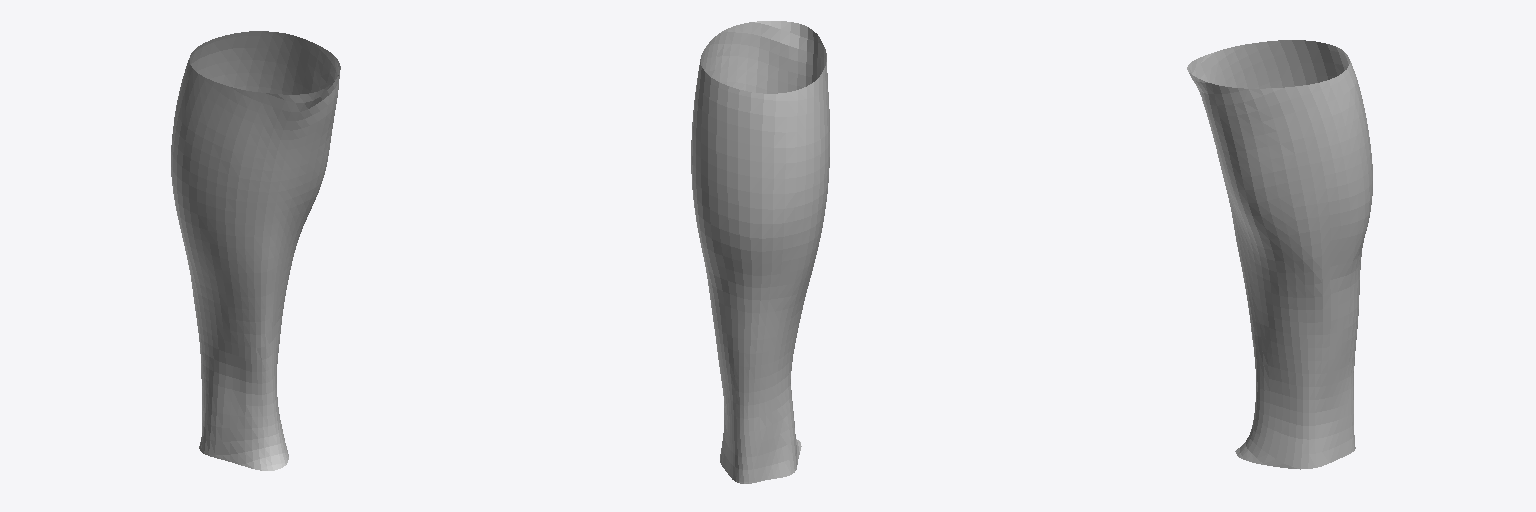
The model's file is gambaD.obj.
3 views of the same model, side by side, from view 1: azimuth 30°, elevation 25°; view 2: azimuth 150°, elevation 25°; view 3: azimuth 270°, elevation 25° (orthographic).
Visible parts, largest first — view 1: gambaD; view 2: gambaD; view 3: gambaD.
Boxes of the visible parts, x1=… form: gambaD: x1=171, y1=31, x2=340, y2=470; gambaD: x1=691, y1=21, x2=829, y2=483; gambaD: x1=1187, y1=40, x2=1372, y2=469.
Bounding box in the file's own units: 1.46 × 4.39 × 1.88.